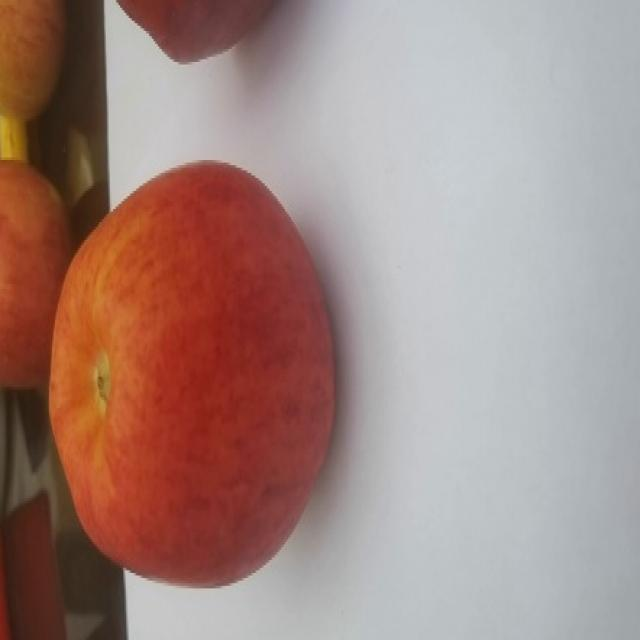Apple: (47, 158, 337, 588), (0, 157, 73, 391), (112, 0, 286, 64), (0, 0, 68, 121)
